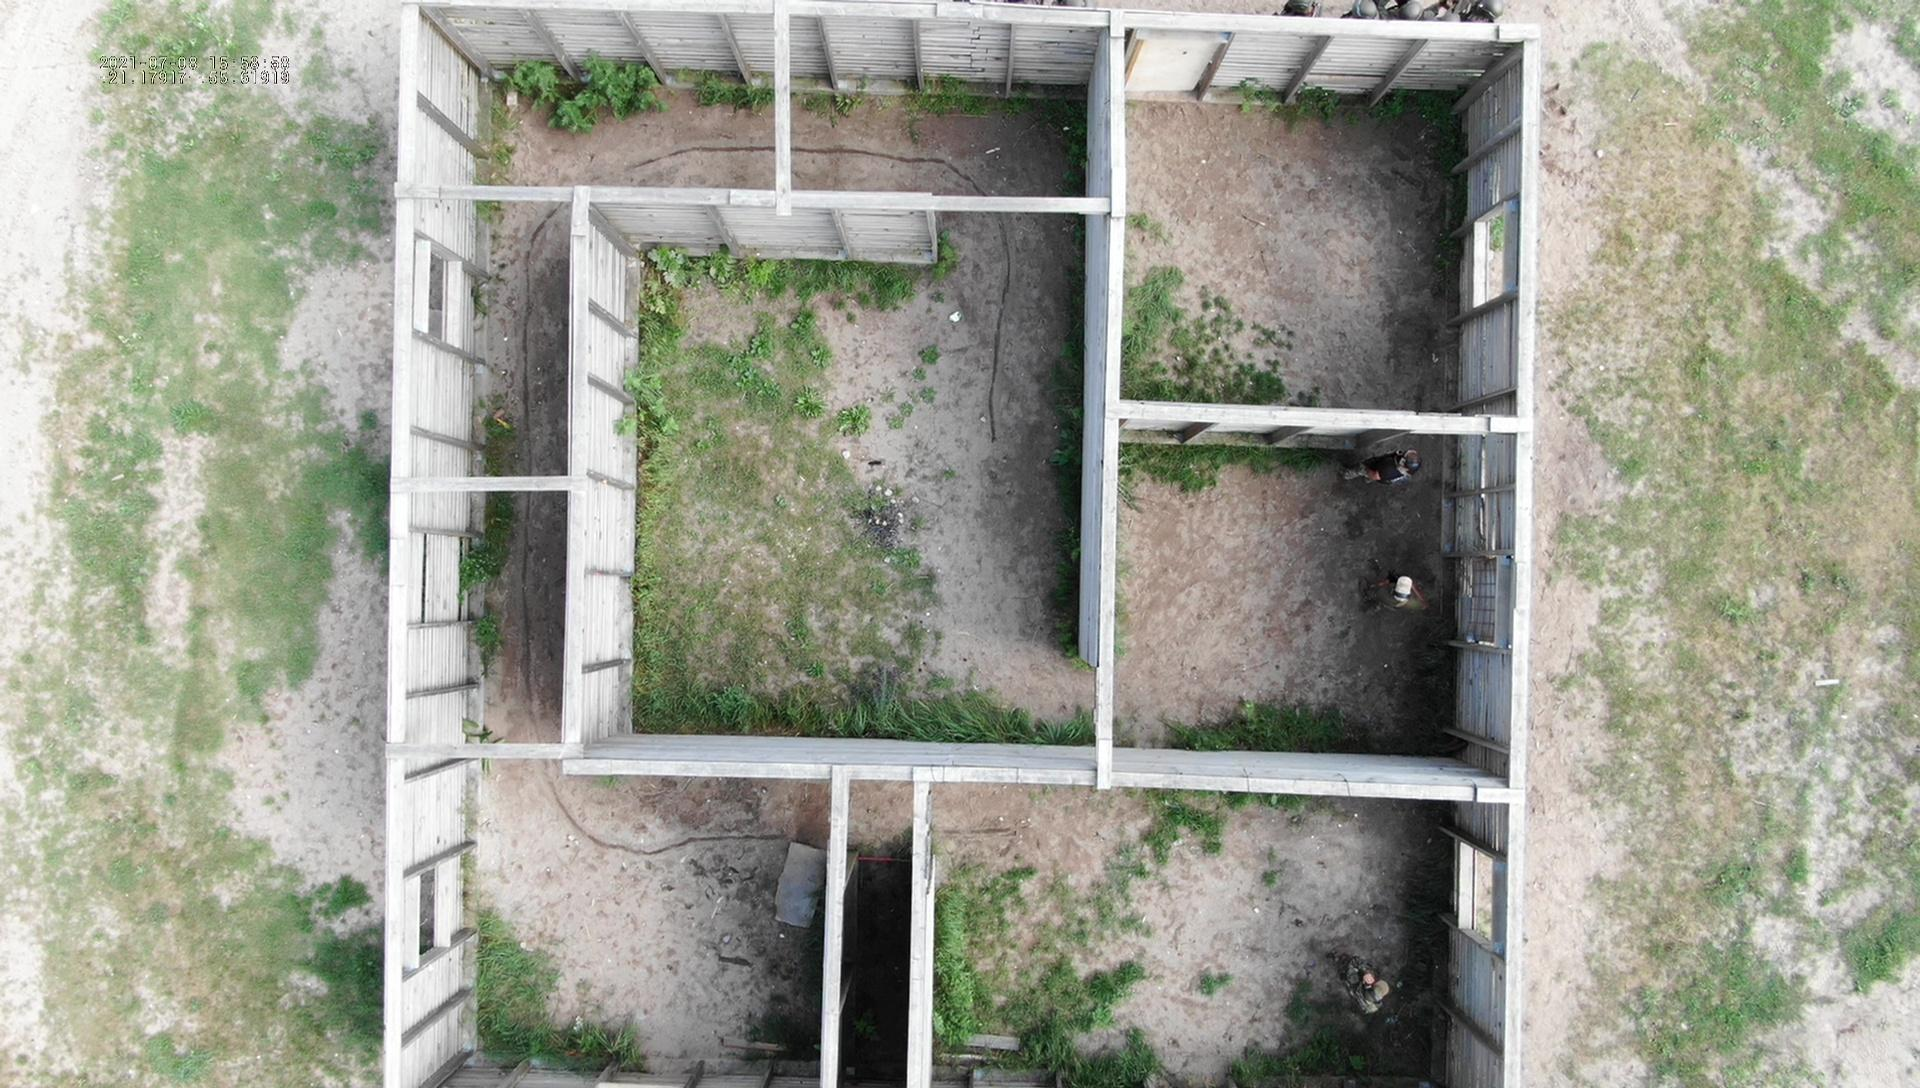Soldier: (1335, 429, 1423, 517), (1333, 545, 1425, 626), (1336, 942, 1415, 1023)
